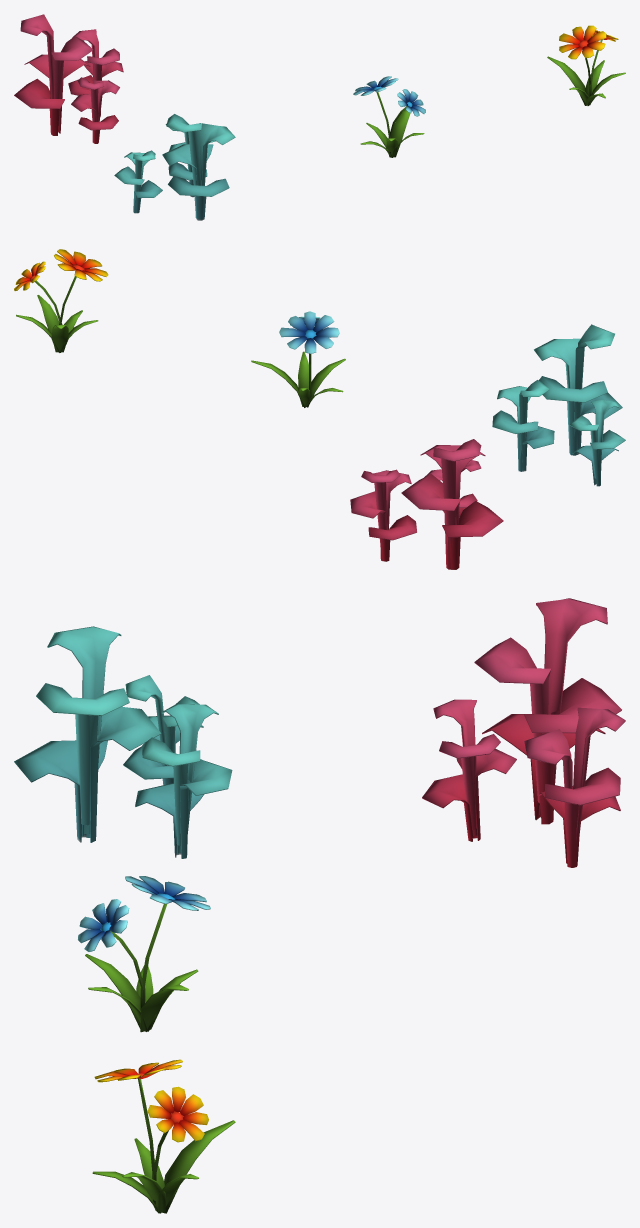
The model's file is flowerz.fbx.
3 renders of one model, top to bottom at view 1: azimuth 30°, elevation 25°; view 2: azimuth 150°, elevation 25°; view 3: azimuth 270°, elevation 25°, orthographic. The views are drawn at different scales.
Parts seen in each view (by area): view 1: FlowerR1, FlowerC1, FlowerY1, FlowerB1; view 2: FlowerC1, FlowerR1, FlowerB1, FlowerY1; view 3: FlowerR1, FlowerC1, FlowerY1, FlowerB1.
Boxes of the visible parts, x1,y1,x2,y2 form: FlowerR1: [14, 14, 123, 143]; FlowerC1: [114, 114, 235, 220]; FlowerY1: [547, 25, 625, 105]; FlowerB1: [353, 76, 425, 157]; FlowerC1: [492, 324, 625, 486]; FlowerR1: [350, 439, 503, 569]; FlowerB1: [251, 311, 345, 407]; FlowerY1: [14, 249, 108, 352]; FlowerR1: [422, 598, 625, 867]; FlowerC1: [14, 626, 232, 858]; FlowerY1: [92, 1059, 235, 1213]; FlowerB1: [78, 876, 210, 1032].
Bounding box in the file's own units: 778 × 164 × 444.
